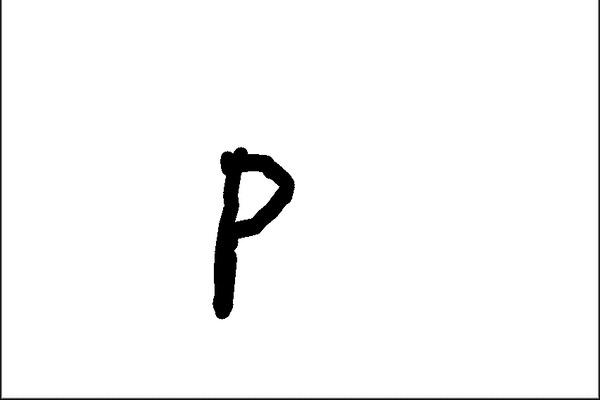P: (197, 136, 305, 315)
